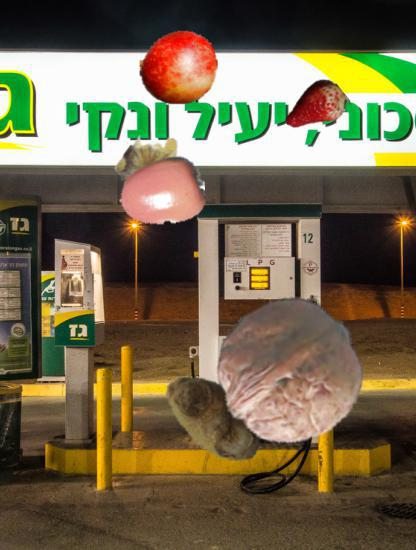Ginger: (158, 361, 270, 473)
Kaki: (119, 148, 205, 234)
Nectarine: (140, 29, 218, 107)
Physalis: (114, 130, 190, 206)
Strawberry: (284, 77, 349, 142)
Walnut: (215, 298, 364, 447)
